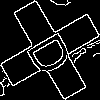D: (25, 25, 82, 80)
